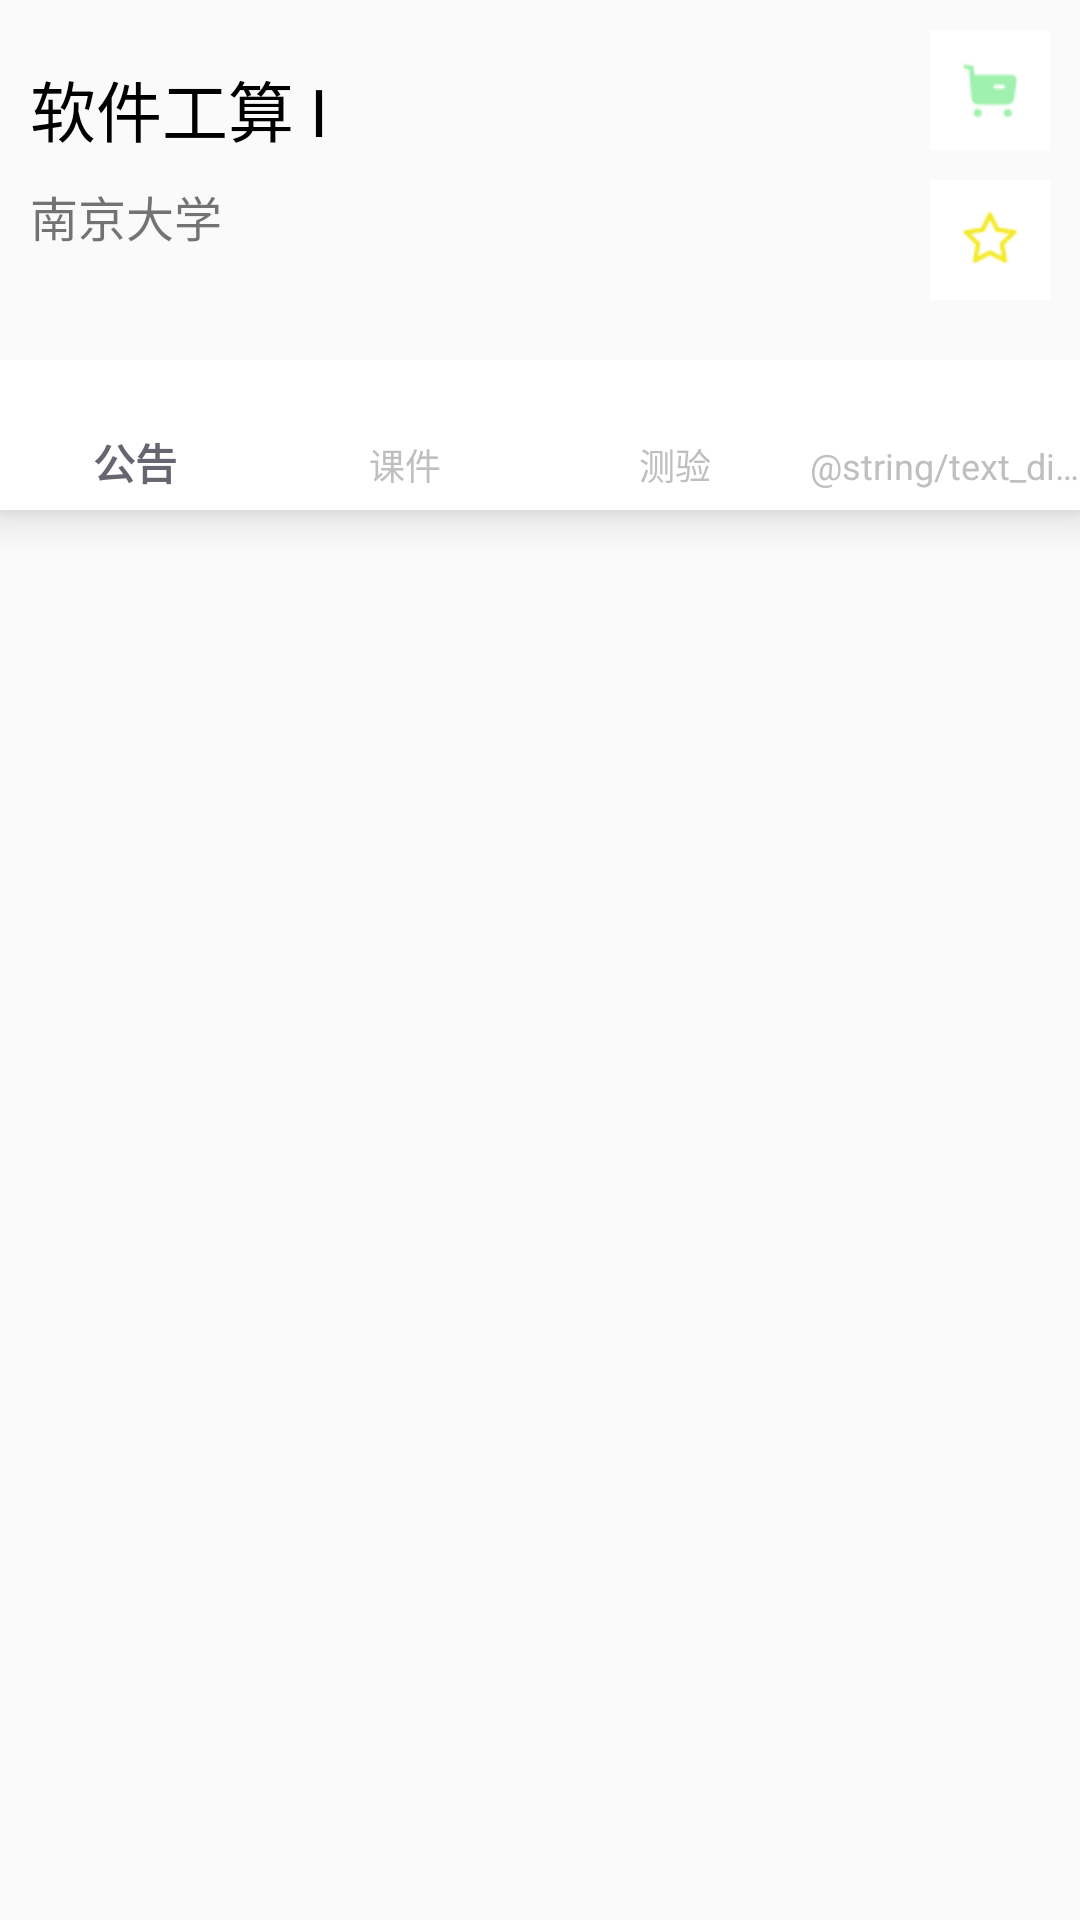

Named icons in this screenshot (1080x1920) and their bounding boxes, (x1, y1, x2, y2):
buy: (963, 64, 1017, 118)
star: (963, 211, 1017, 264)
